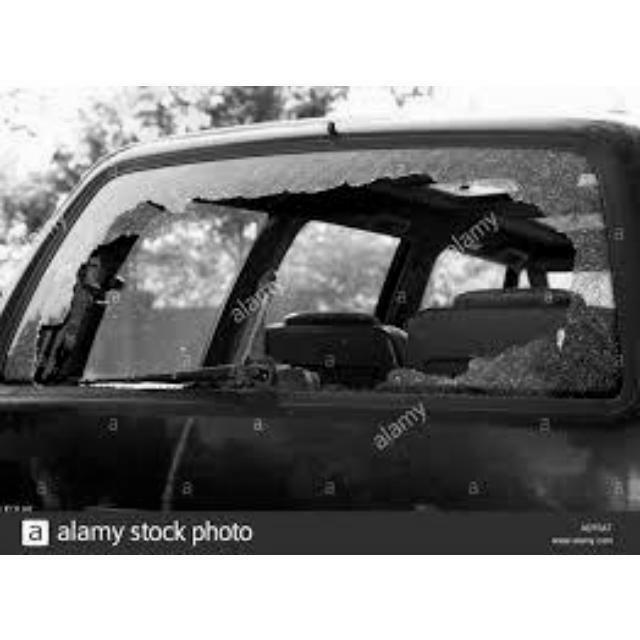Rear-windscreen-Damage: (0, 163, 588, 397)
